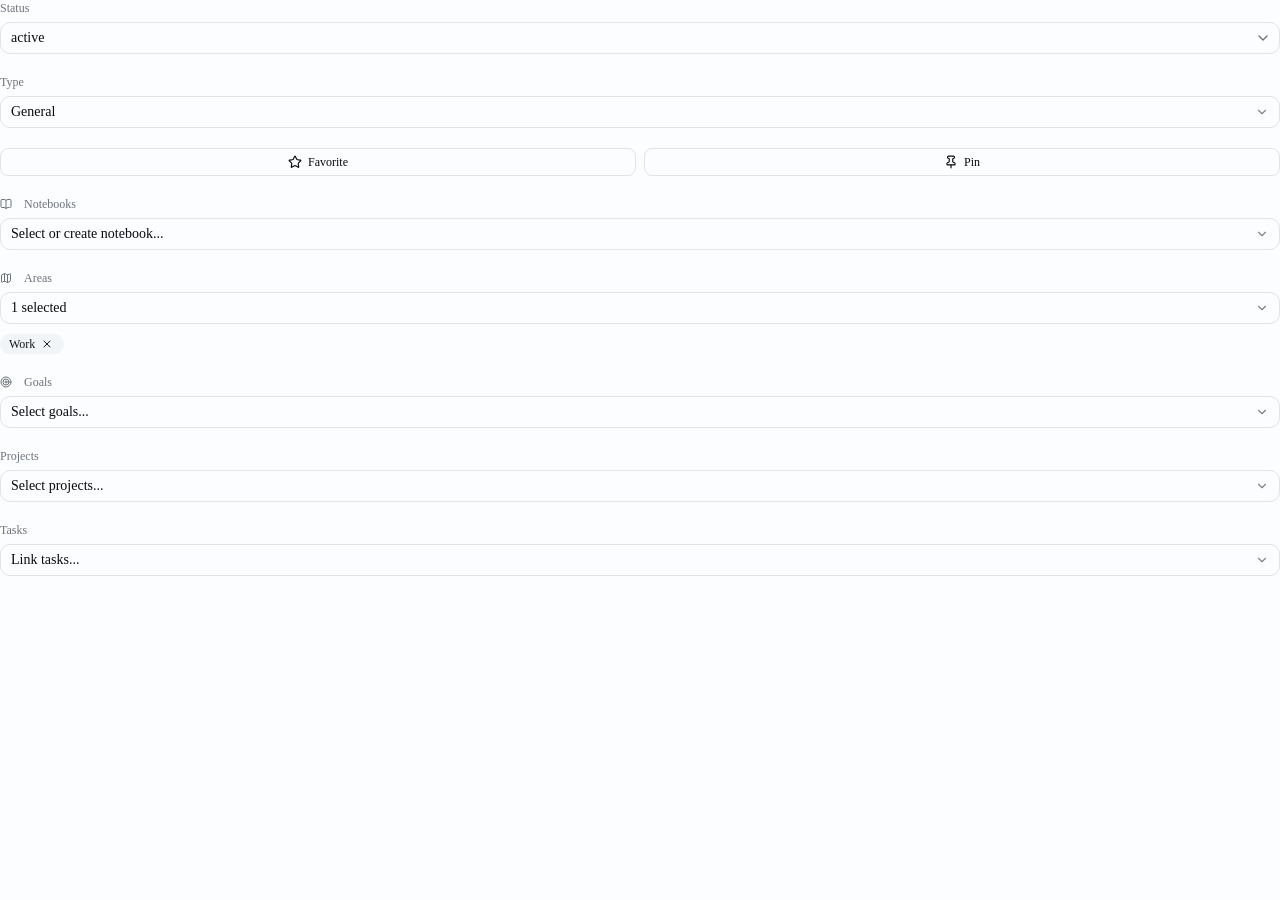
Test: NoteMetadataPanel: unassigned entities stay visible with area filter › with area filter active, unassigned goal stays visible alongside area-scoped goal
Click the dropdown labelled "Select goals...".
click(50, 412)  # box [0,396,1279,428]
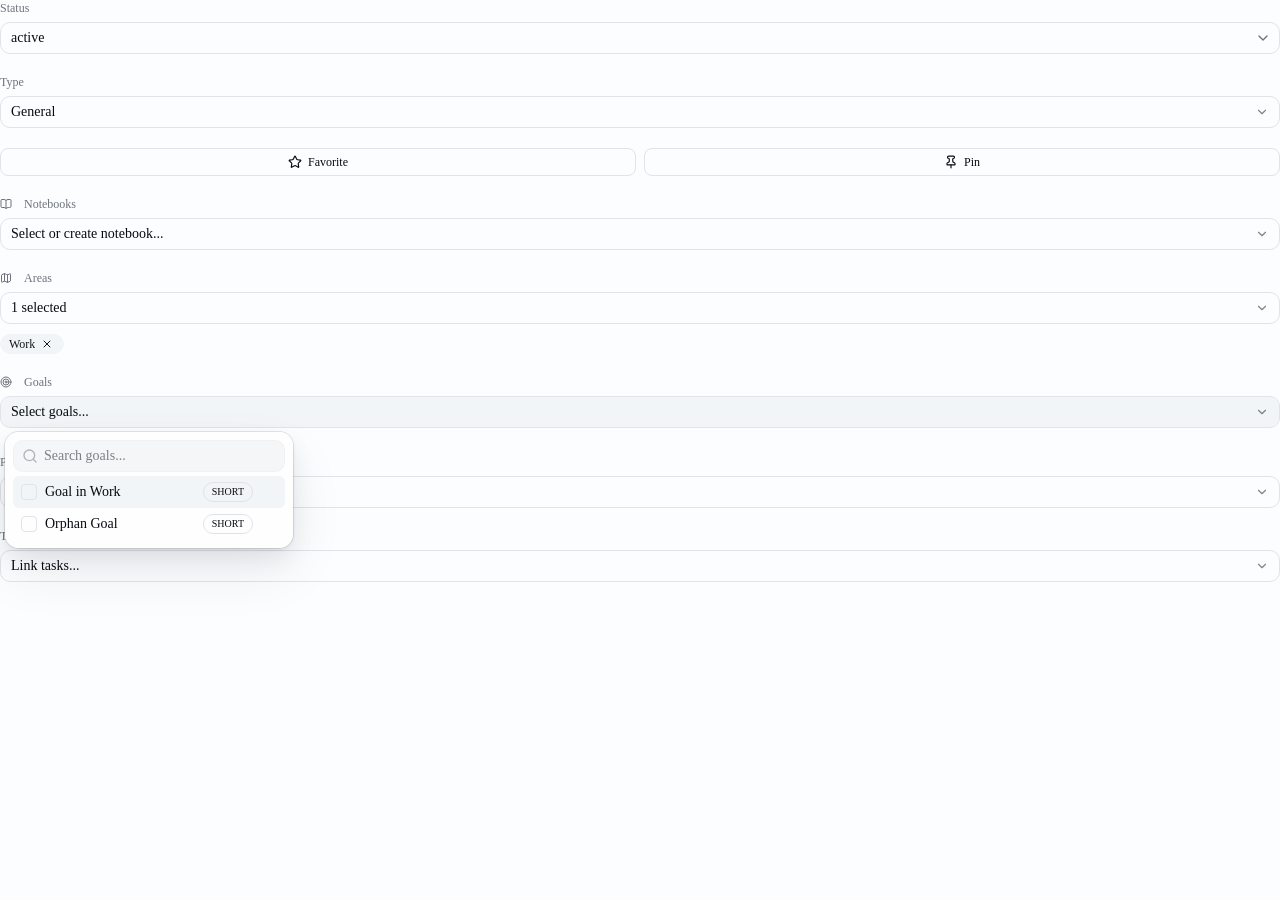
Expected: the text "Goal in Work" is shown, [45,484,121,499]
Expected: the text "Orphan Goal" is shown, [45,516,118,531]
